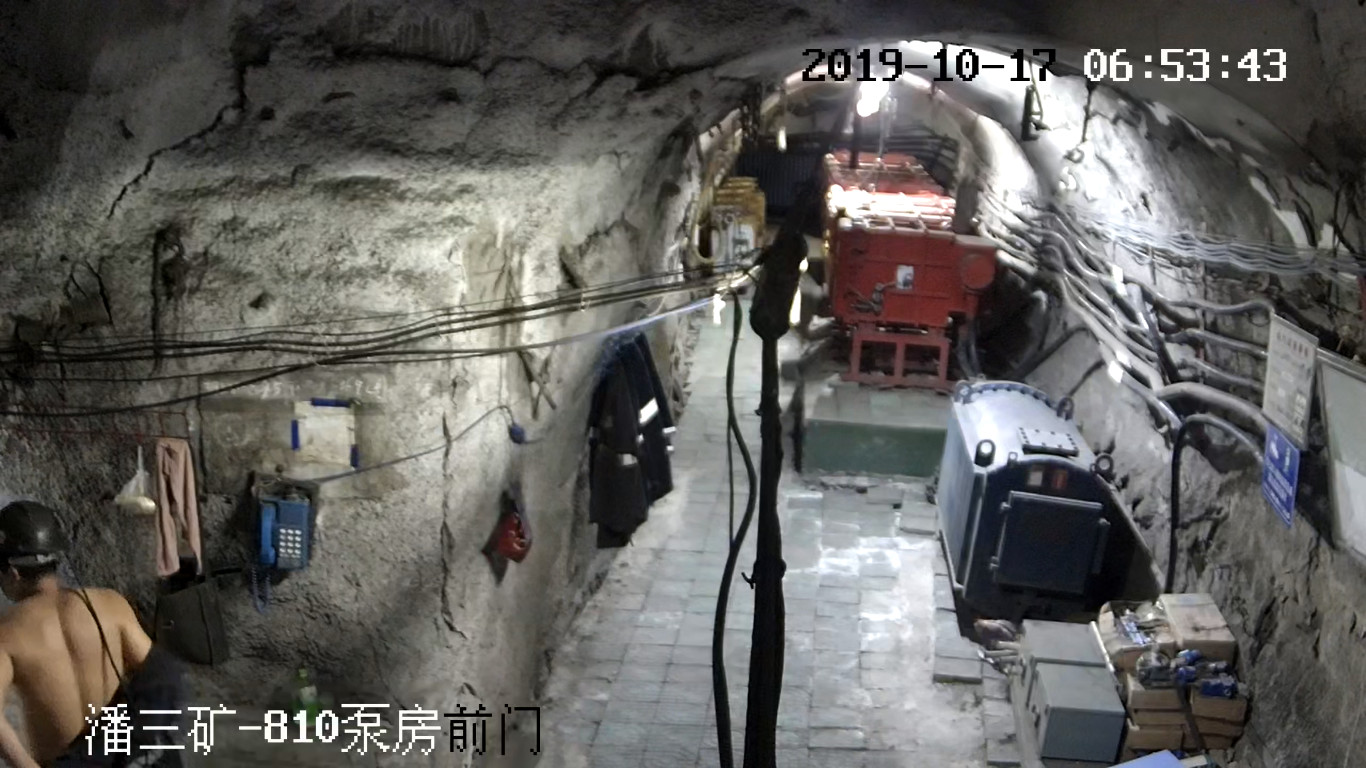helmet: (0, 499, 69, 562)
